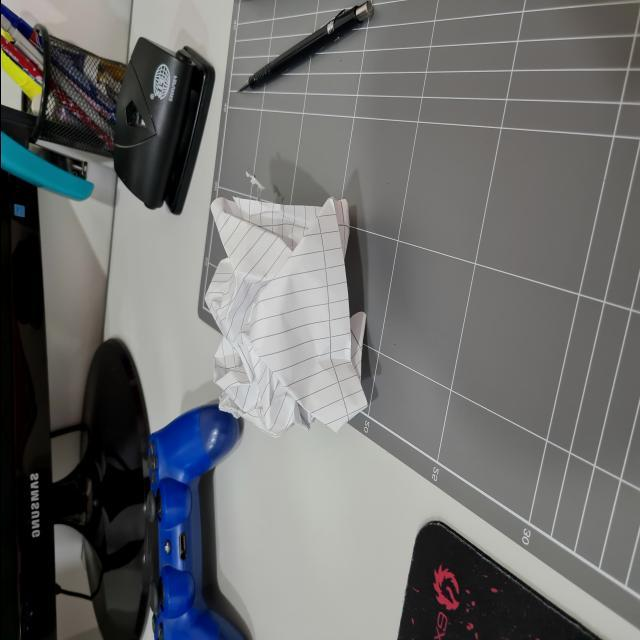Paper: (128, 185, 408, 452)
